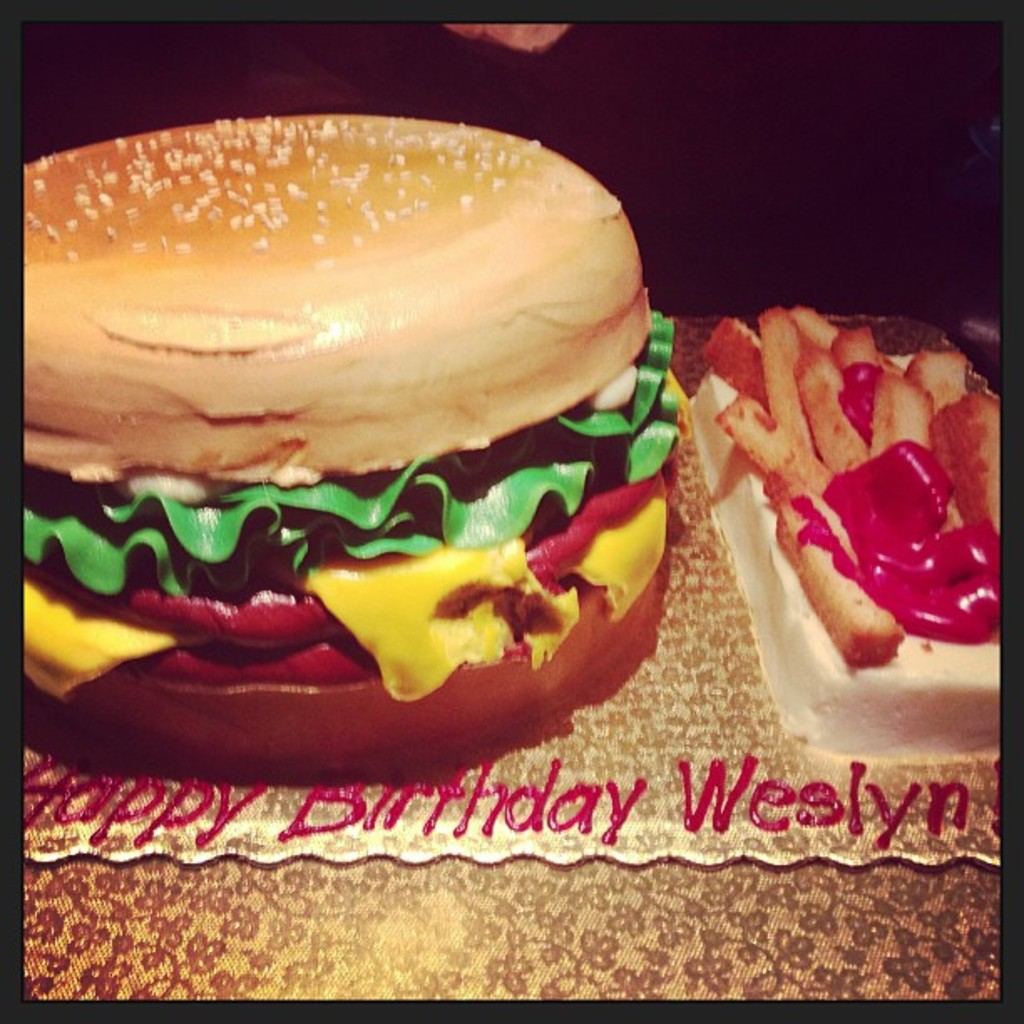Hamburger: (23, 113, 684, 788)
